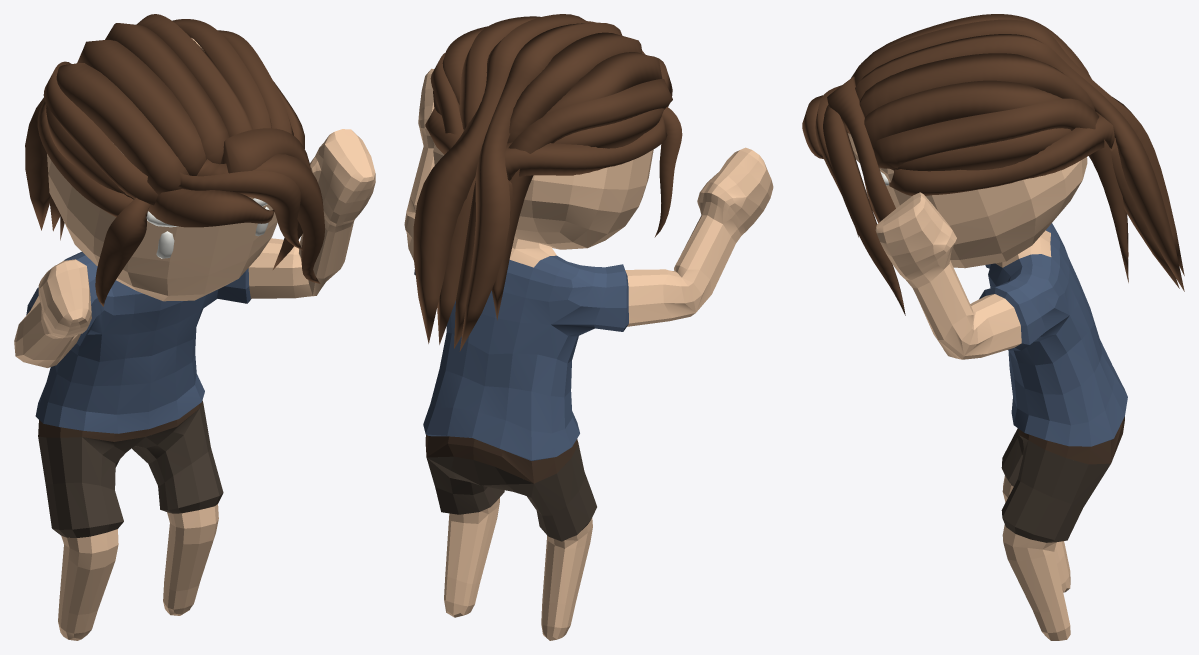
Rendered from triste-femme.glb.
3 views of the same model, side by side, from view 1: azimuth 30°, elevation 25°; view 2: azimuth 150°, elevation 25°; view 3: azimuth 270°, elevation 25° (orthographic). The views are drawn at different scales.
Visible parts, largest first — view 1: Cube004_5, Cube004, Cube004_1, Cube004_2, Cube004_3, Cube004_4; view 2: Cube004_5, Cube004, Cube004_1, Cube004_2, Cube004_3; view 3: Cube004_5, Cube004, Cube004_1, Cube004_2, Cube004_3.
Boxes of the visible parts, x1,y1,x2,y2 form: Cube004_5: (25, 14, 325, 306); Cube004: (14, 38, 375, 640); Cube004_1: (26, 252, 251, 433); Cube004_2: (38, 403, 223, 537); Cube004_3: (38, 400, 203, 441); Cube004_4: (146, 198, 269, 258); Cube004_5: (413, 14, 682, 351); Cube004: (404, 68, 773, 640); Cube004_1: (414, 255, 628, 460); Cube004_2: (426, 444, 596, 541); Cube004_3: (425, 435, 578, 483); Cube004_5: (802, 14, 1184, 315); Cube004: (847, 133, 1087, 640); Cube004_1: (979, 223, 1127, 446); Cube004_2: (1001, 428, 1110, 542); Cube004_3: (1019, 416, 1124, 464).
Bounding box in the file's own units: 0.9184 × 1.58 × 0.9328.
